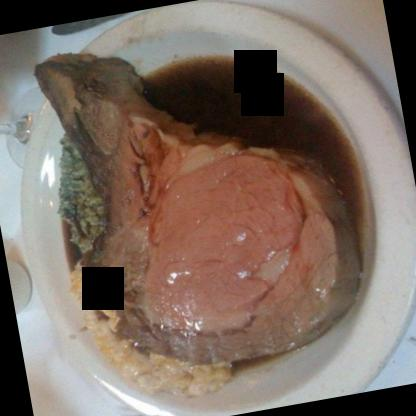beef: (36, 7, 378, 380)
